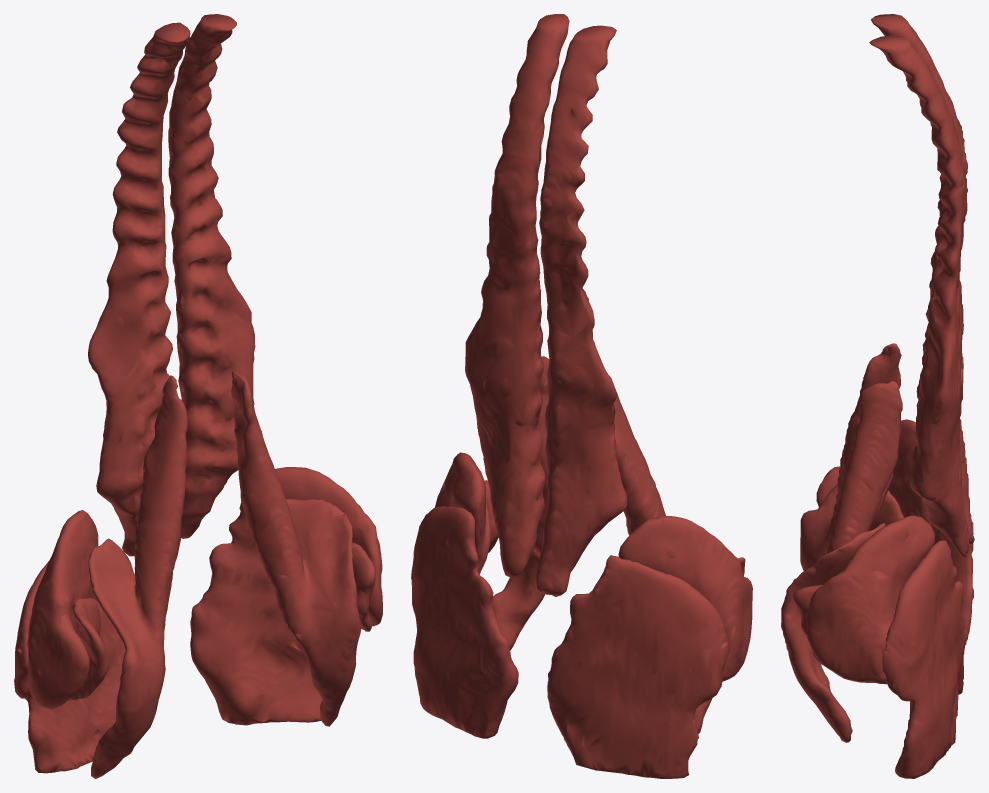
The model's file is tsd_s0327_older_adult_male.muscular.LOD4.glb.
3 renders of one model, left to right at view 1: azimuth 30°, elevation 25°; view 2: azimuth 150°, elevation 25°; view 3: azimuth 270°, elevation 25°, orthographic. The views are drawn at different scales.
Parts seen in each view (by area): view 1: TSD_S0327.OLDER_ADULT.MALE.MUSCULAR.ERECTOR_SPINAE_AUTOCHTHO (×2), TSD_S0327.OLDER_ADULT.MALE.MUSCULAR.ILIOPSOAS.L, TSD_S0327.OLDER_ADULT.MALE.MUSCULAR.ILIOPSOAS.R, TSD_S0327.OLDER_ADULT.MALE.MUSCULAR.GLUTEUS_MAXIMUS.L, TSD_S0327.OLDER_ADULT.MALE.MUSCULAR.GLUTEUS_MEDIUS.R, TSD_S0327.OLDER_ADULT.MALE.MUSCULAR.GLUTEUS_MAXIMUS.R, TSD_S0327.OLDER_ADULT.MALE.MUSCULAR.GLUTEUS_MEDIUS.L, TSD_S0327.OLDER_ADULT.MALE.MUSCULAR.GLUTEUS_MINIMUS.R, TSD_S0327.OLDER_ADULT.MALE.MUSCULAR.GLUTEUS_MINIMUS.L; view 2: TSD_S0327.OLDER_ADULT.MALE.MUSCULAR.ERECTOR_SPINAE_AUTOCHTHO (×2), TSD_S0327.OLDER_ADULT.MALE.MUSCULAR.GLUTEUS_MAXIMUS.R, TSD_S0327.OLDER_ADULT.MALE.MUSCULAR.GLUTEUS_MAXIMUS.L, TSD_S0327.OLDER_ADULT.MALE.MUSCULAR.GLUTEUS_MEDIUS.R, TSD_S0327.OLDER_ADULT.MALE.MUSCULAR.ILIOPSOAS.L, TSD_S0327.OLDER_ADULT.MALE.MUSCULAR.ILIOPSOAS.R, TSD_S0327.OLDER_ADULT.MALE.MUSCULAR.GLUTEUS_MEDIUS.L, TSD_S0327.OLDER_ADULT.MALE.MUSCULAR.GLUTEUS_MINIMUS.L; view 3: TSD_S0327.OLDER_ADULT.MALE.MUSCULAR.ERECTOR_SPINAE_AUTOCHTHO (×2), TSD_S0327.OLDER_ADULT.MALE.MUSCULAR.GLUTEUS_MAXIMUS.L, TSD_S0327.OLDER_ADULT.MALE.MUSCULAR.ILIOPSOAS.L, TSD_S0327.OLDER_ADULT.MALE.MUSCULAR.GLUTEUS_MEDIUS.L, TSD_S0327.OLDER_ADULT.MALE.MUSCULAR.ILIOPSOAS.R, TSD_S0327.OLDER_ADULT.MALE.MUSCULAR.GLUTEUS_MEDIUS.R, TSD_S0327.OLDER_ADULT.MALE.MUSCULAR.GLUTEUS_MAXIMUS.R, TSD_S0327.OLDER_ADULT.MALE.MUSCULAR.GLUTEUS_MINIMUS.R, TSD_S0327.OLDER_ADULT.MALE.MUSCULAR.GLUTEUS_MINIMUS.L.
Part boxes in pixels (left/top/right/bottom): TSD_S0327.OLDER_ADULT.MALE.MUSCULAR.ERECTOR_SPINAE_AUTOCHTHO (×2): left=88, top=14, right=255, bottom=556; TSD_S0327.OLDER_ADULT.MALE.MUSCULAR.ILIOPSOAS.L: left=231, top=370, right=360, bottom=726; TSD_S0327.OLDER_ADULT.MALE.MUSCULAR.ILIOPSOAS.R: left=88, top=375, right=188, bottom=778; TSD_S0327.OLDER_ADULT.MALE.MUSCULAR.GLUTEUS_MAXIMUS.L: left=190, top=502, right=321, bottom=725; TSD_S0327.OLDER_ADULT.MALE.MUSCULAR.GLUTEUS_MEDIUS.R: left=27, top=510, right=98, bottom=709; TSD_S0327.OLDER_ADULT.MALE.MUSCULAR.GLUTEUS_MAXIMUS.R: left=14, top=560, right=125, bottom=773; TSD_S0327.OLDER_ADULT.MALE.MUSCULAR.GLUTEUS_MEDIUS.L: left=275, top=467, right=382, bottom=626; TSD_S0327.OLDER_ADULT.MALE.MUSCULAR.GLUTEUS_MINIMUS.R: left=69, top=598, right=108, bottom=700; TSD_S0327.OLDER_ADULT.MALE.MUSCULAR.GLUTEUS_MINIMUS.L: left=351, top=542, right=375, bottom=631; TSD_S0327.OLDER_ADULT.MALE.MUSCULAR.ERECTOR_SPINAE_AUTOCHTHO (×2): left=465, top=14, right=627, bottom=596; TSD_S0327.OLDER_ADULT.MALE.MUSCULAR.GLUTEUS_MAXIMUS.R: left=547, top=555, right=729, bottom=778; TSD_S0327.OLDER_ADULT.MALE.MUSCULAR.GLUTEUS_MAXIMUS.L: left=411, top=506, right=518, bottom=738; TSD_S0327.OLDER_ADULT.MALE.MUSCULAR.GLUTEUS_MEDIUS.R: left=618, top=516, right=752, bottom=681; TSD_S0327.OLDER_ADULT.MALE.MUSCULAR.ILIOPSOAS.L: left=483, top=356, right=549, bottom=650; TSD_S0327.OLDER_ADULT.MALE.MUSCULAR.ILIOPSOAS.R: left=608, top=375, right=712, bottom=733; TSD_S0327.OLDER_ADULT.MALE.MUSCULAR.GLUTEUS_MEDIUS.L: left=435, top=452, right=486, bottom=572; TSD_S0327.OLDER_ADULT.MALE.MUSCULAR.GLUTEUS_MINIMUS.L: left=479, top=480, right=498, bottom=574; TSD_S0327.OLDER_ADULT.MALE.MUSCULAR.ERECTOR_SPINAE_AUTOCHTHO (×2): left=869, top=14, right=974, bottom=557; TSD_S0327.OLDER_ADULT.MALE.MUSCULAR.GLUTEUS_MAXIMUS.L: left=882, top=540, right=966, bottom=778; TSD_S0327.OLDER_ADULT.MALE.MUSCULAR.ILIOPSOAS.L: left=781, top=381, right=902, bottom=742; TSD_S0327.OLDER_ADULT.MALE.MUSCULAR.GLUTEUS_MEDIUS.L: left=806, top=515, right=934, bottom=684; TSD_S0327.OLDER_ADULT.MALE.MUSCULAR.ILIOPSOAS.R: left=800, top=343, right=901, bottom=570; TSD_S0327.OLDER_ADULT.MALE.MUSCULAR.GLUTEUS_MEDIUS.R: left=888, top=419, right=931, bottom=526; TSD_S0327.OLDER_ADULT.MALE.MUSCULAR.GLUTEUS_MAXIMUS.R: left=931, top=521, right=973, bottom=694; TSD_S0327.OLDER_ADULT.MALE.MUSCULAR.GLUTEUS_MINIMUS.R: left=816, top=466, right=903, bottom=530; TSD_S0327.OLDER_ADULT.MALE.MUSCULAR.GLUTEUS_MINIMUS.L: left=793, top=585, right=822, bottom=664.
Bounding box in the file's own units: 0.3078 × 0.6437 × 0.1662.
